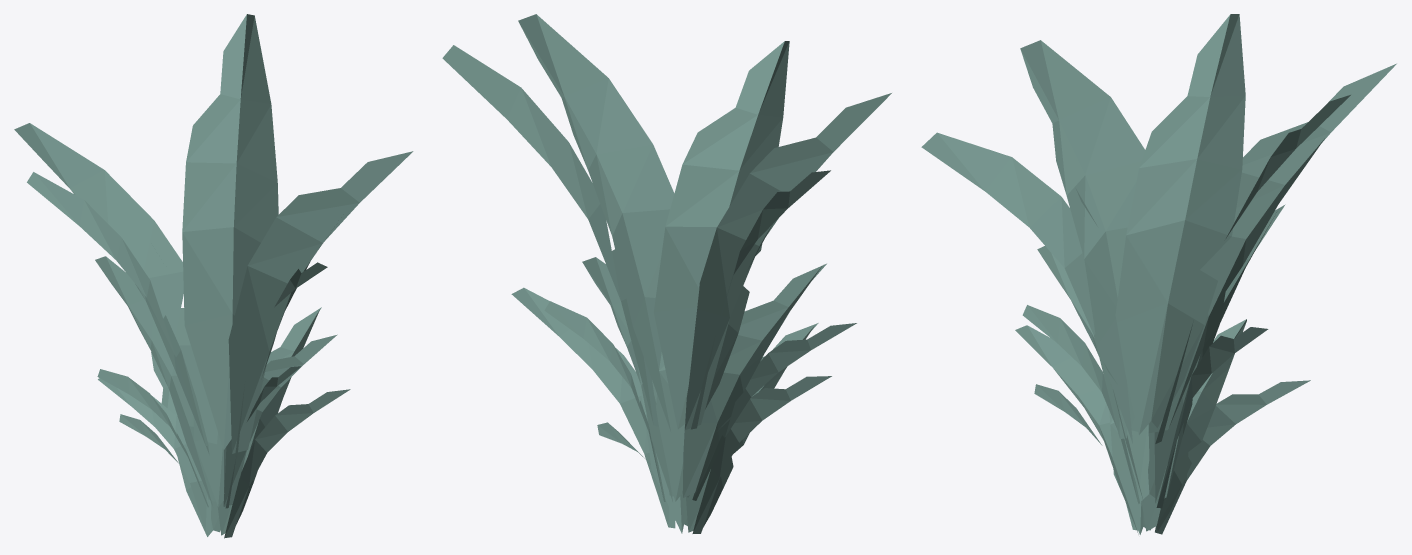
The model's file is bush_real.glb.
3 views of the same model, side by side, from view 1: azimuth 30°, elevation 25°; view 2: azimuth 150°, elevation 25°; view 3: azimuth 270°, elevation 25° (orthographic). The views are drawn at different scales.
Visible parts, largest first — view 1: plant_real; view 2: plant_real; view 3: plant_real.
Boxes of the visible parts, bbox=[...] form: plant_real: bbox=[14, 14, 413, 538]; plant_real: bbox=[442, 14, 891, 533]; plant_real: bbox=[921, 14, 1396, 534].
Bounding box in the file's own units: 0.929 × 1.2 × 1.
